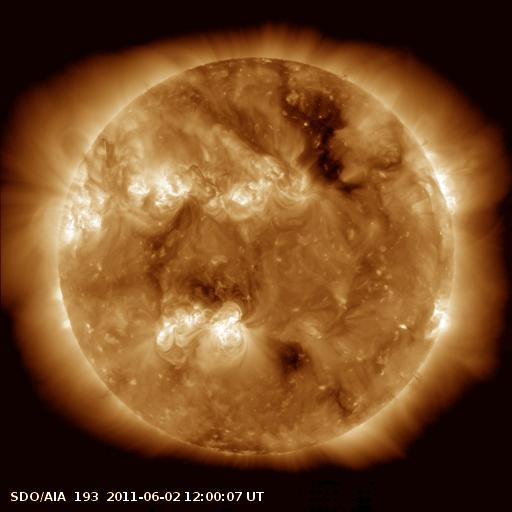coronal_hole: (272, 71, 368, 200), (269, 335, 316, 381)
